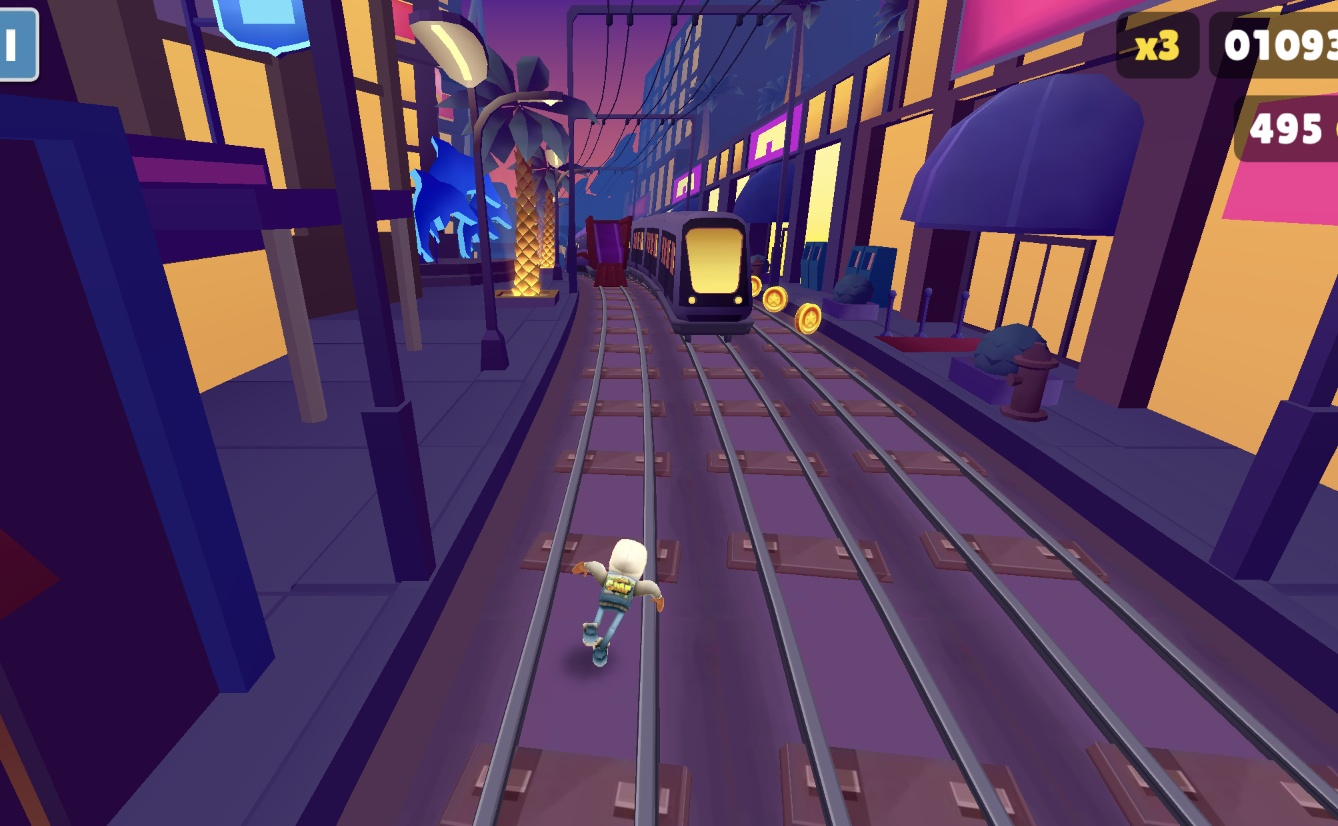train: (674, 222, 756, 337), (582, 215, 624, 284)
